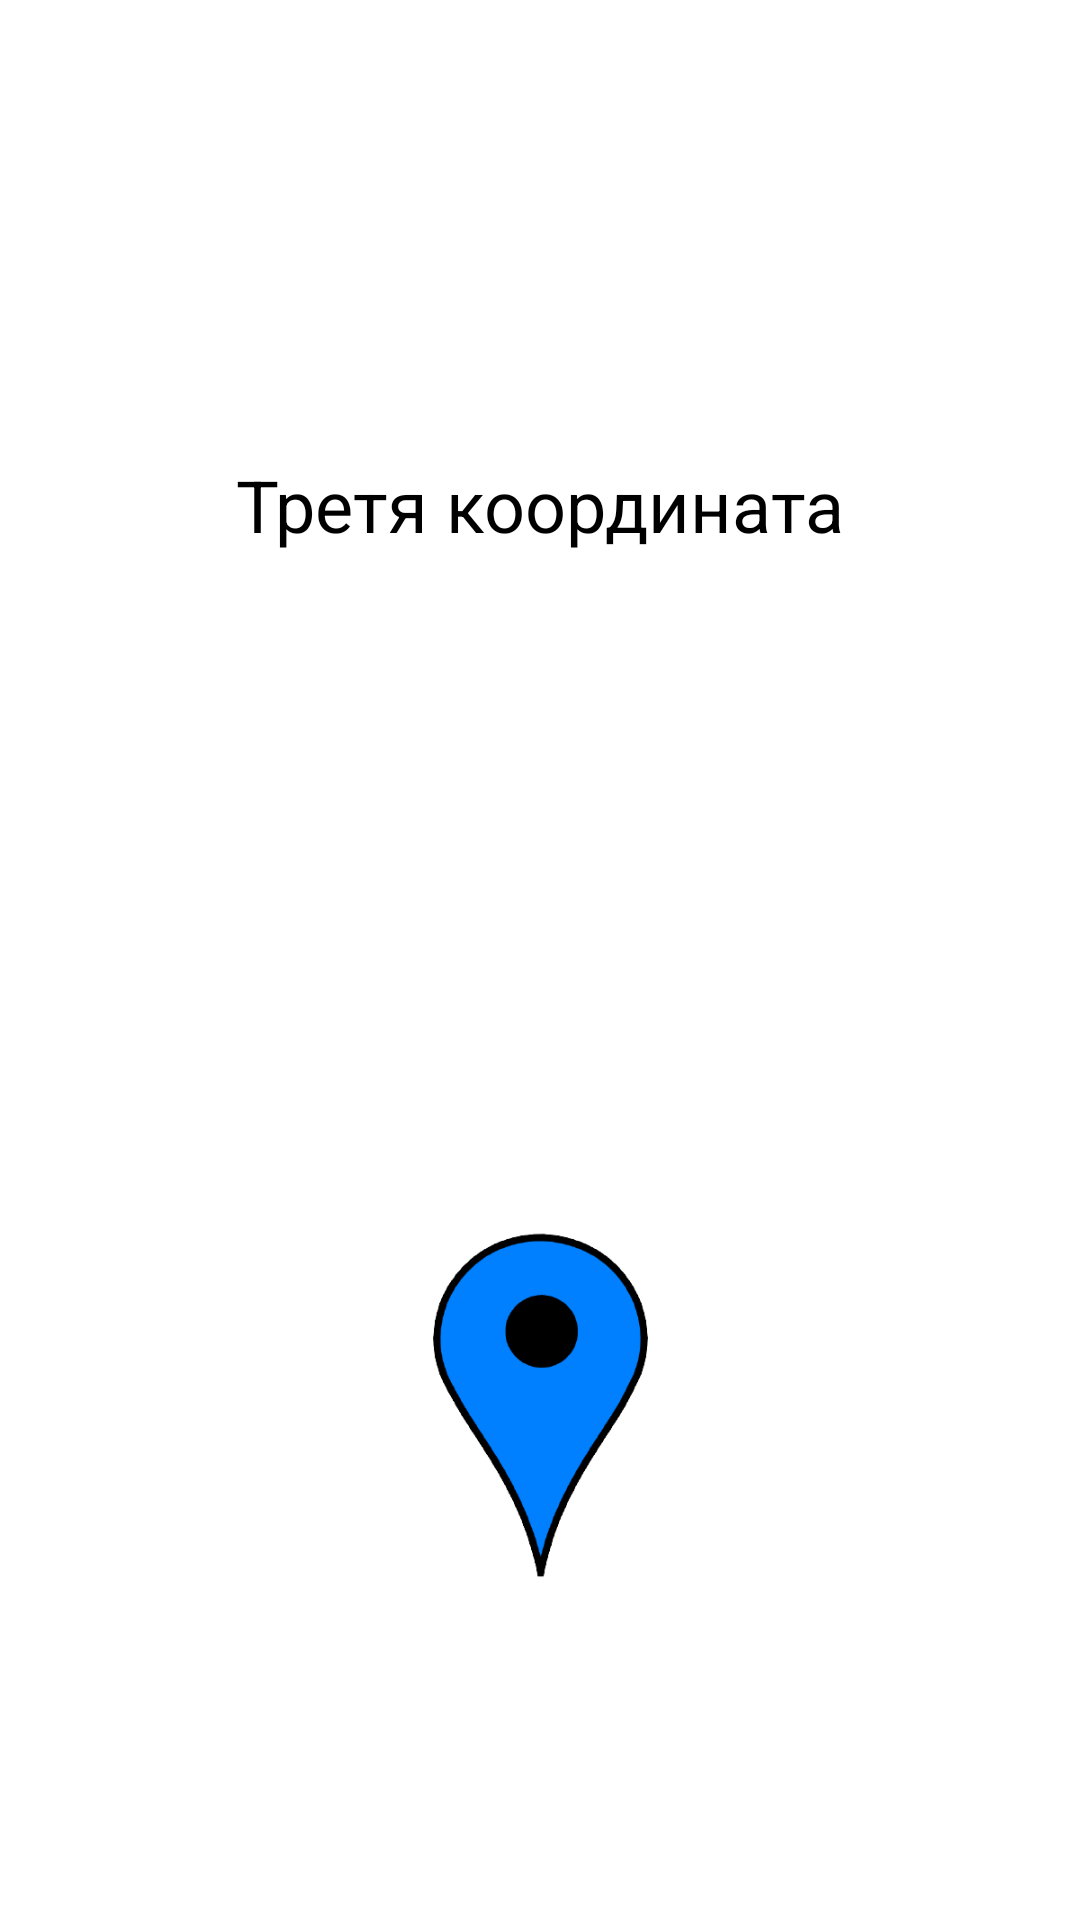

Where icons sit on this 1080w x 1920h app screen, as (x1, y1, x2, y2):
map: (433, 1233, 648, 1577)
